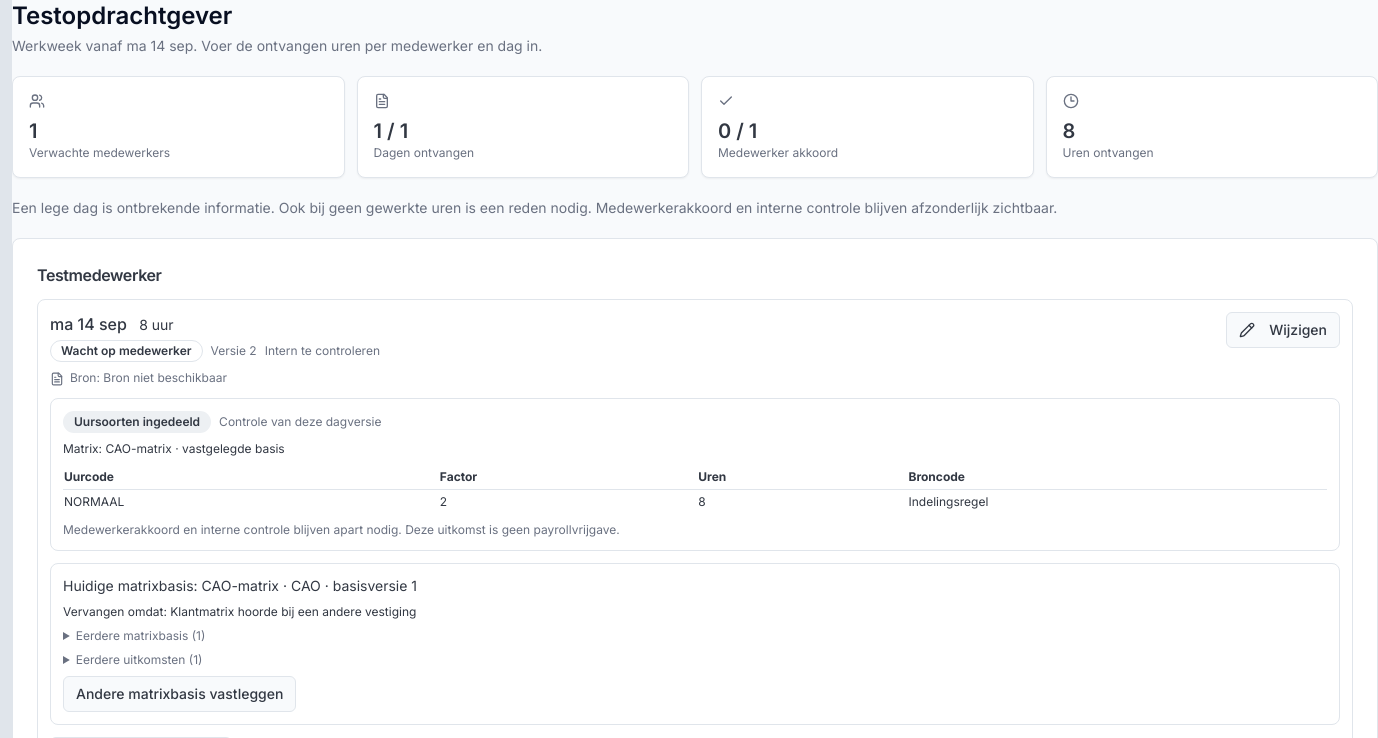
Test: replacing the basis › asks the server which matrices this day may use and never offers the current one
This screenshot has width=1378, height=738.
Click the button "Andere matrixbasis vastleggen" at (180, 694), box [63, 676, 296, 712]
(page scrolled)
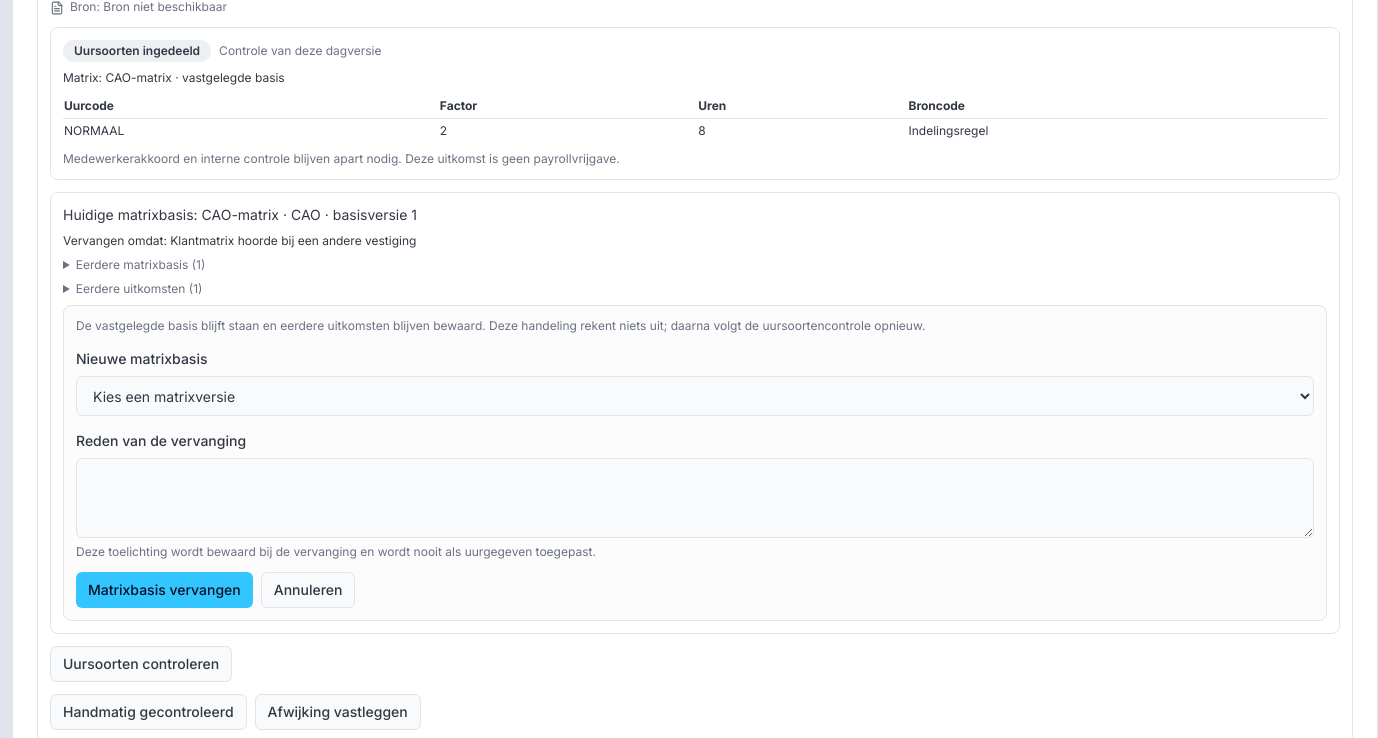
Expected: the dropdown labelled "Nieuwe matrixbasis" is shown, [76, 376, 1314, 416]
